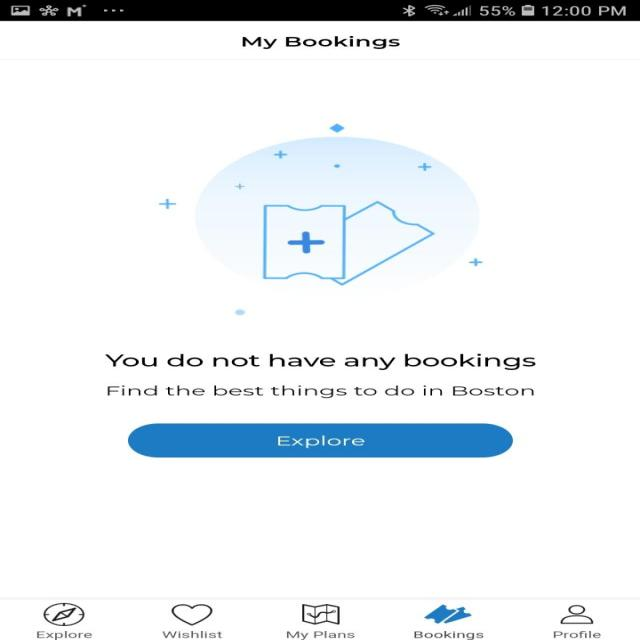Icon: (42, 602, 84, 626), (423, 604, 472, 624), (170, 604, 212, 626), (302, 603, 339, 625), (559, 604, 593, 624)
Image: (158, 123, 483, 315)
Text: (105, 353, 536, 398), (242, 36, 400, 49), (286, 630, 355, 640), (414, 630, 484, 639), (36, 630, 92, 639), (162, 630, 224, 638), (553, 630, 601, 638)
TextButton: (127, 423, 513, 458)
